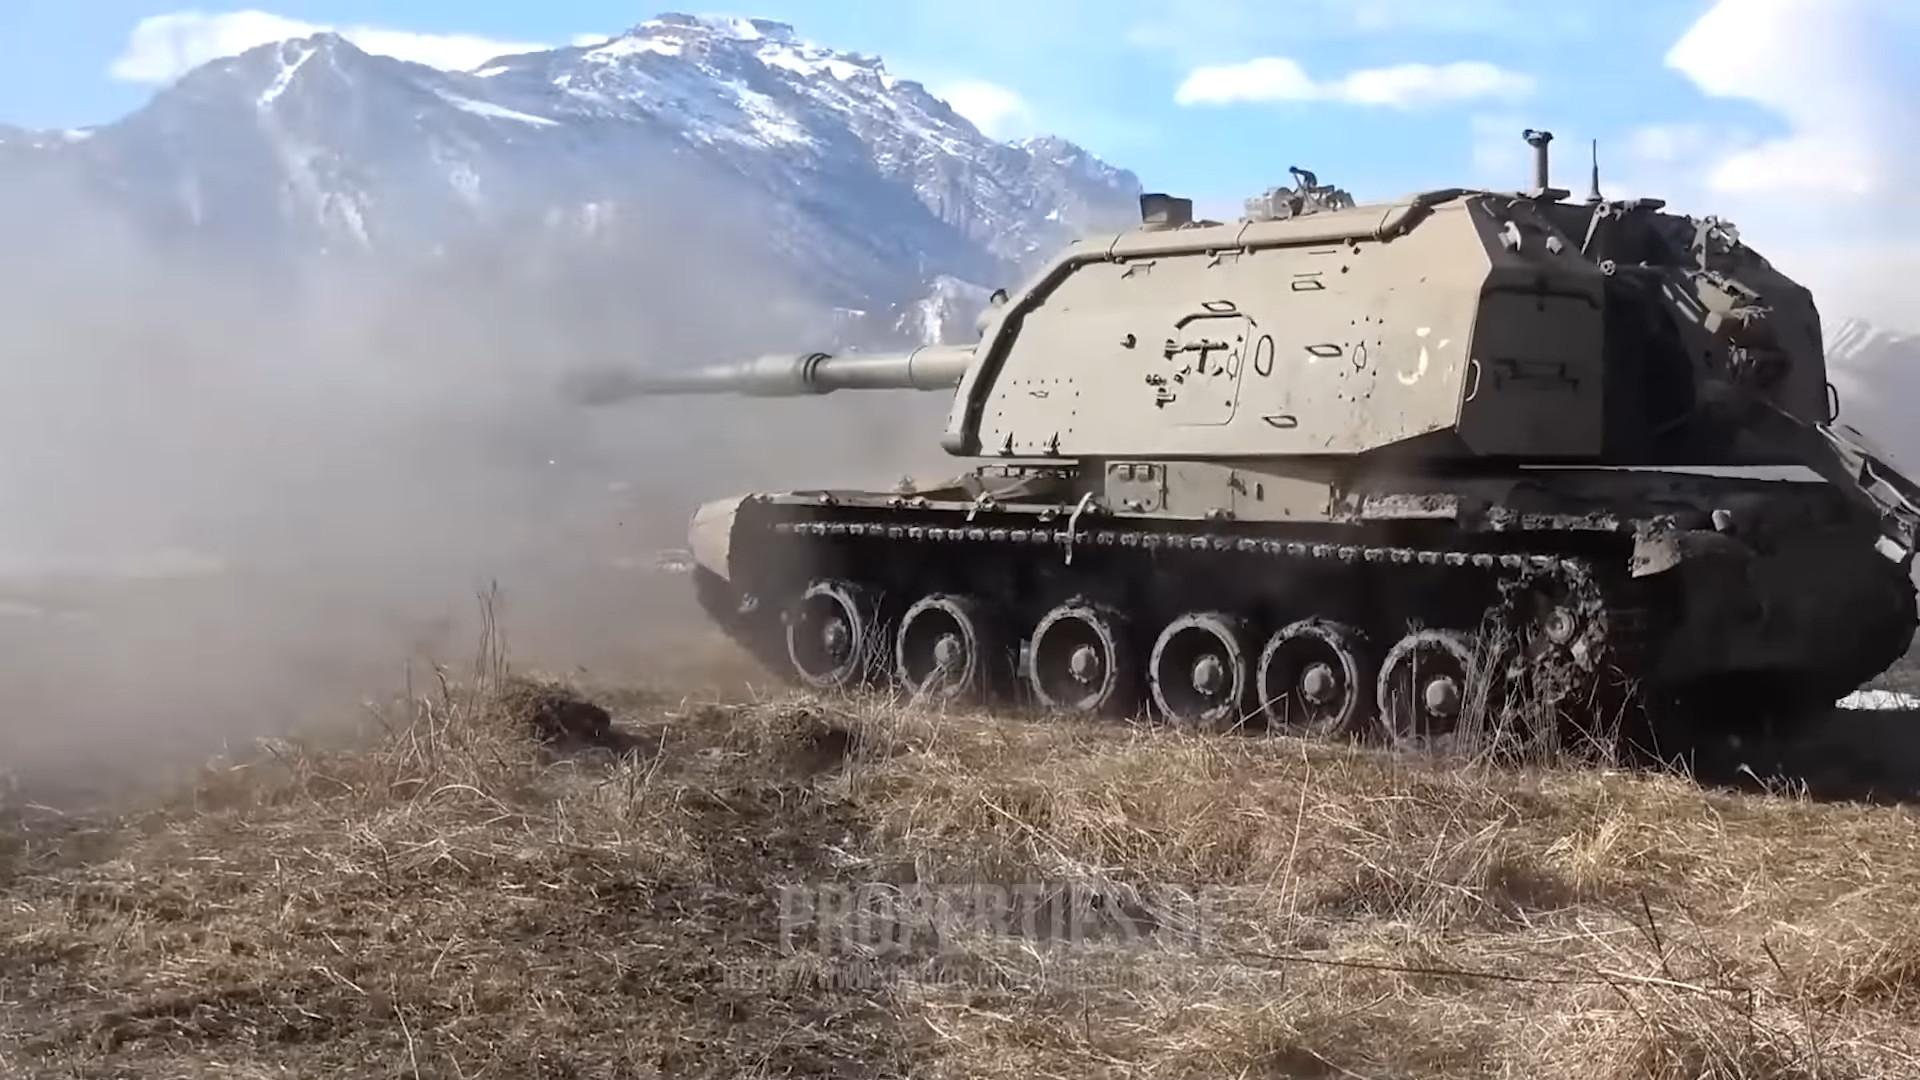tank: (568, 187, 1919, 762)
